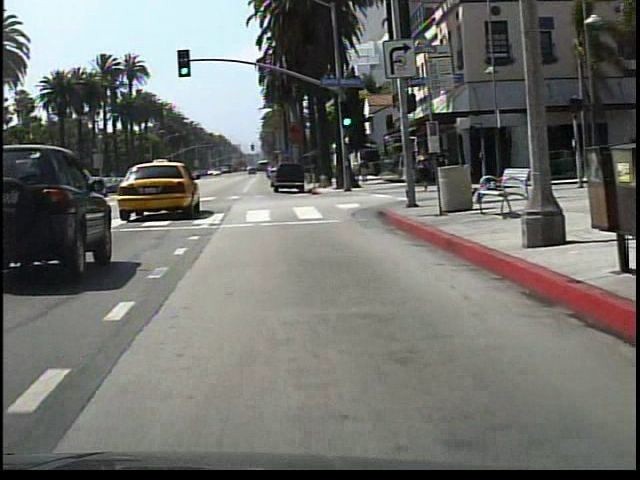person: (404, 146, 420, 197), (526, 141, 542, 182)
